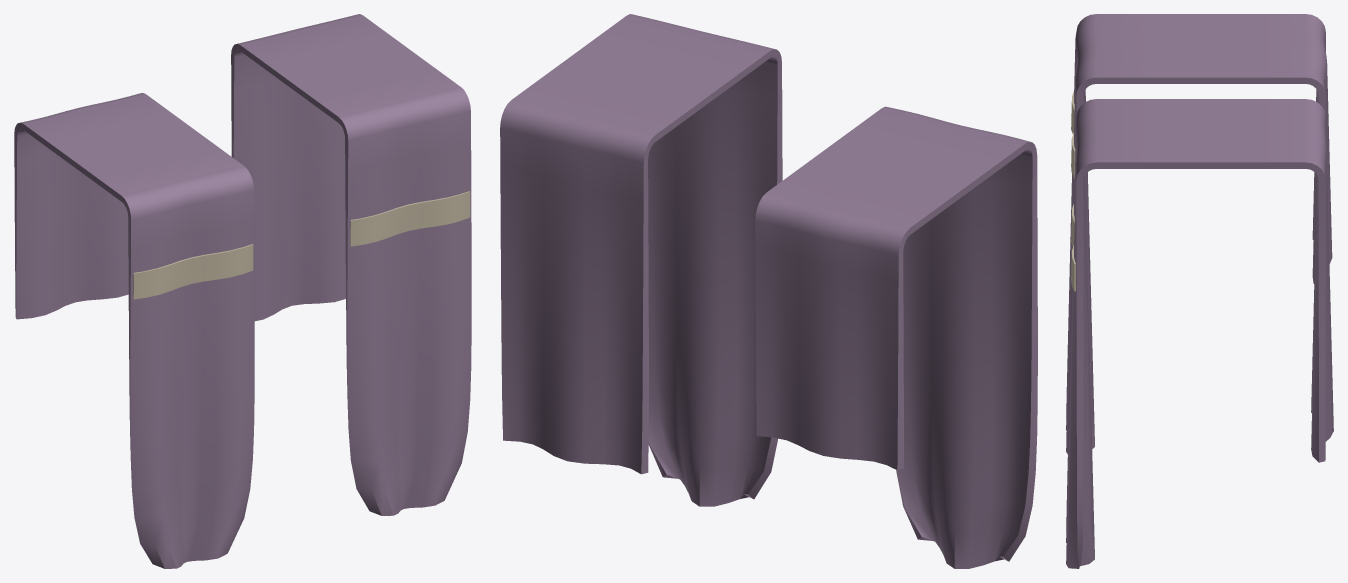
The model's file is socks-draped-mint-0fcdd626ba38.glb.
3 renders of one model, left to right at view 1: azimuth 30°, elevation 25°; view 2: azimuth 150°, elevation 25°; view 3: azimuth 270°, elevation 25°, orthographic. The views are drawn at different scales.
Visible parts, largest first — view 1: cloth-lilac, cloth-cream; view 2: cloth-lilac; view 3: cloth-lilac, cloth-cream.
Part boxes in pixels (box(x1,y1,x2,y2)): cloth-lilac: box(14, 14, 471, 568); cloth-cream: box(133, 191, 470, 299); cloth-lilac: box(500, 14, 1037, 568); cloth-lilac: box(1066, 14, 1333, 568); cloth-cream: box(1071, 91, 1075, 291).
Bounding box in the file's own units: 0.208 × 0.235 × 0.133.
